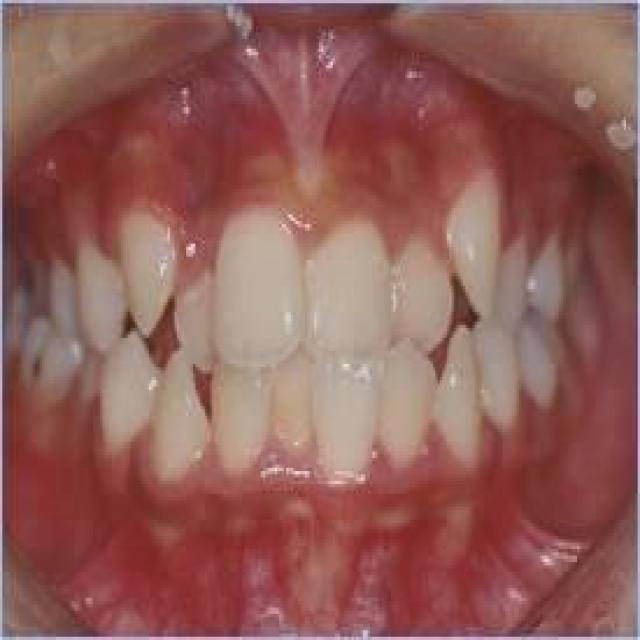Caries: (33, 357, 42, 383)
Tooth: (212, 208, 305, 370), (303, 214, 391, 367), (312, 351, 389, 481), (447, 169, 503, 318), (98, 328, 163, 452), (377, 338, 438, 468), (151, 348, 209, 484), (391, 234, 454, 357), (119, 205, 177, 338), (209, 364, 275, 471), (435, 322, 482, 471), (19, 312, 84, 406), (79, 237, 128, 354), (172, 273, 221, 374), (275, 341, 317, 458), (475, 318, 519, 426), (517, 305, 561, 409), (526, 224, 568, 318), (49, 250, 84, 341), (65, 344, 105, 419), (498, 237, 528, 331)
